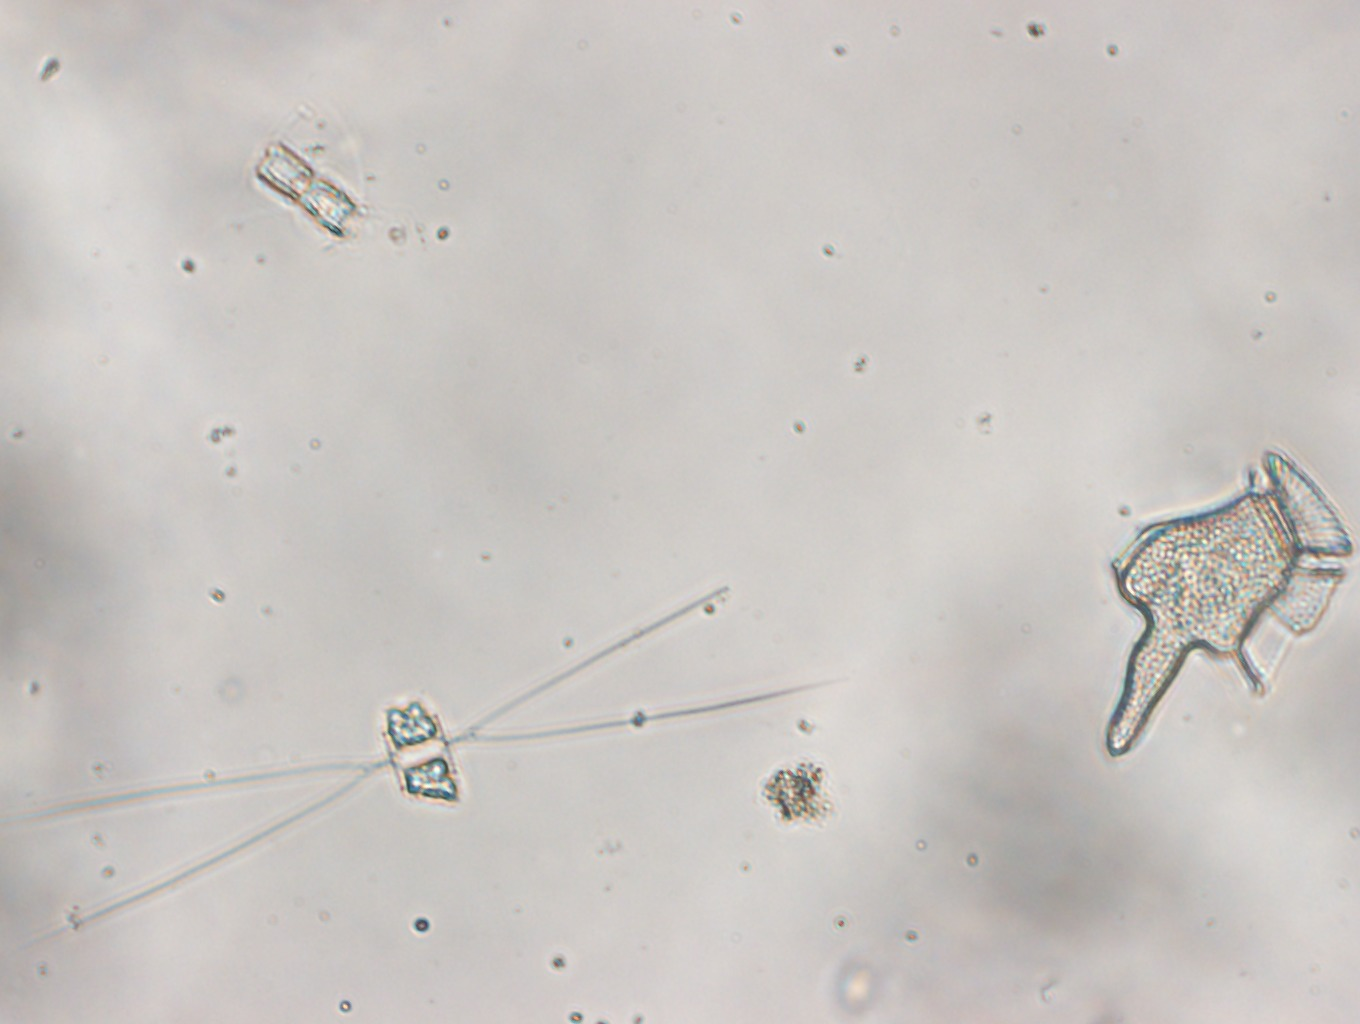chaetoceros: (15, 584, 832, 935)
dinophysis caudata: (1102, 446, 1355, 758)
